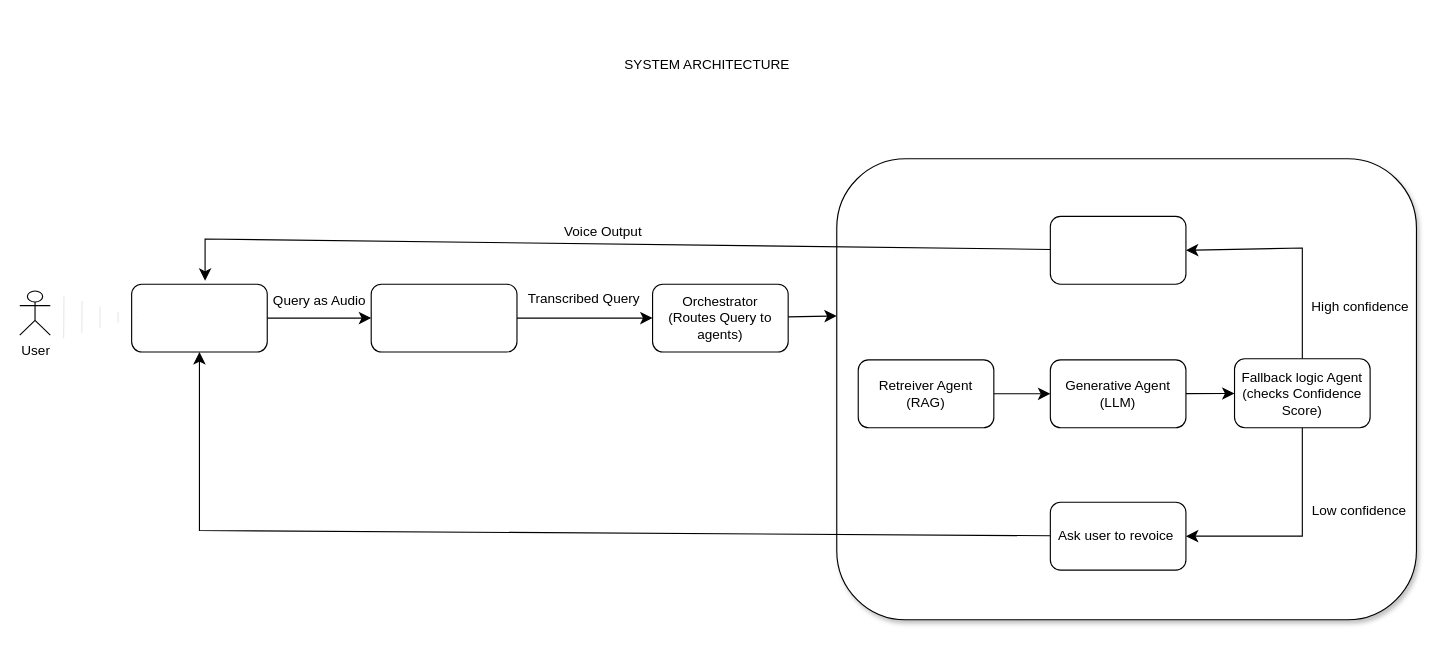
Image size: 1443x647. Some labels were removed from this diagram. The shapes that lost their labels are listed below. From the top down, each one's centre as x and y in pixels, then its label:
At point 1117,249: "Voice Agent (TTS Module)".
At point 199,317: "User Interface (streamlit)".
At point 443,317: "STT Module (whisper)".
